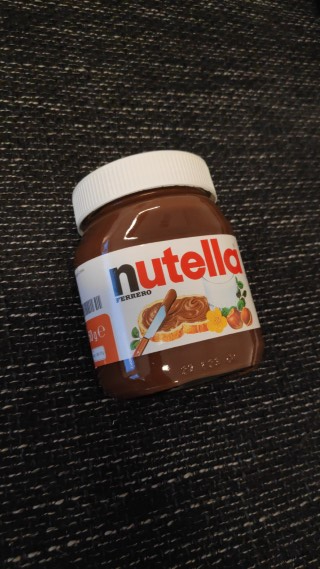nutella: (71, 149, 265, 402)
